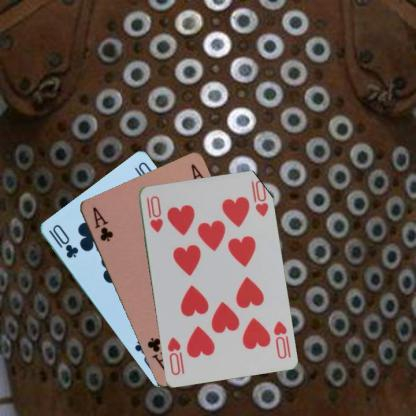10c: (46, 222, 80, 259)
10h: (144, 193, 164, 233), (270, 318, 288, 360)
Ac: (90, 204, 114, 243)
